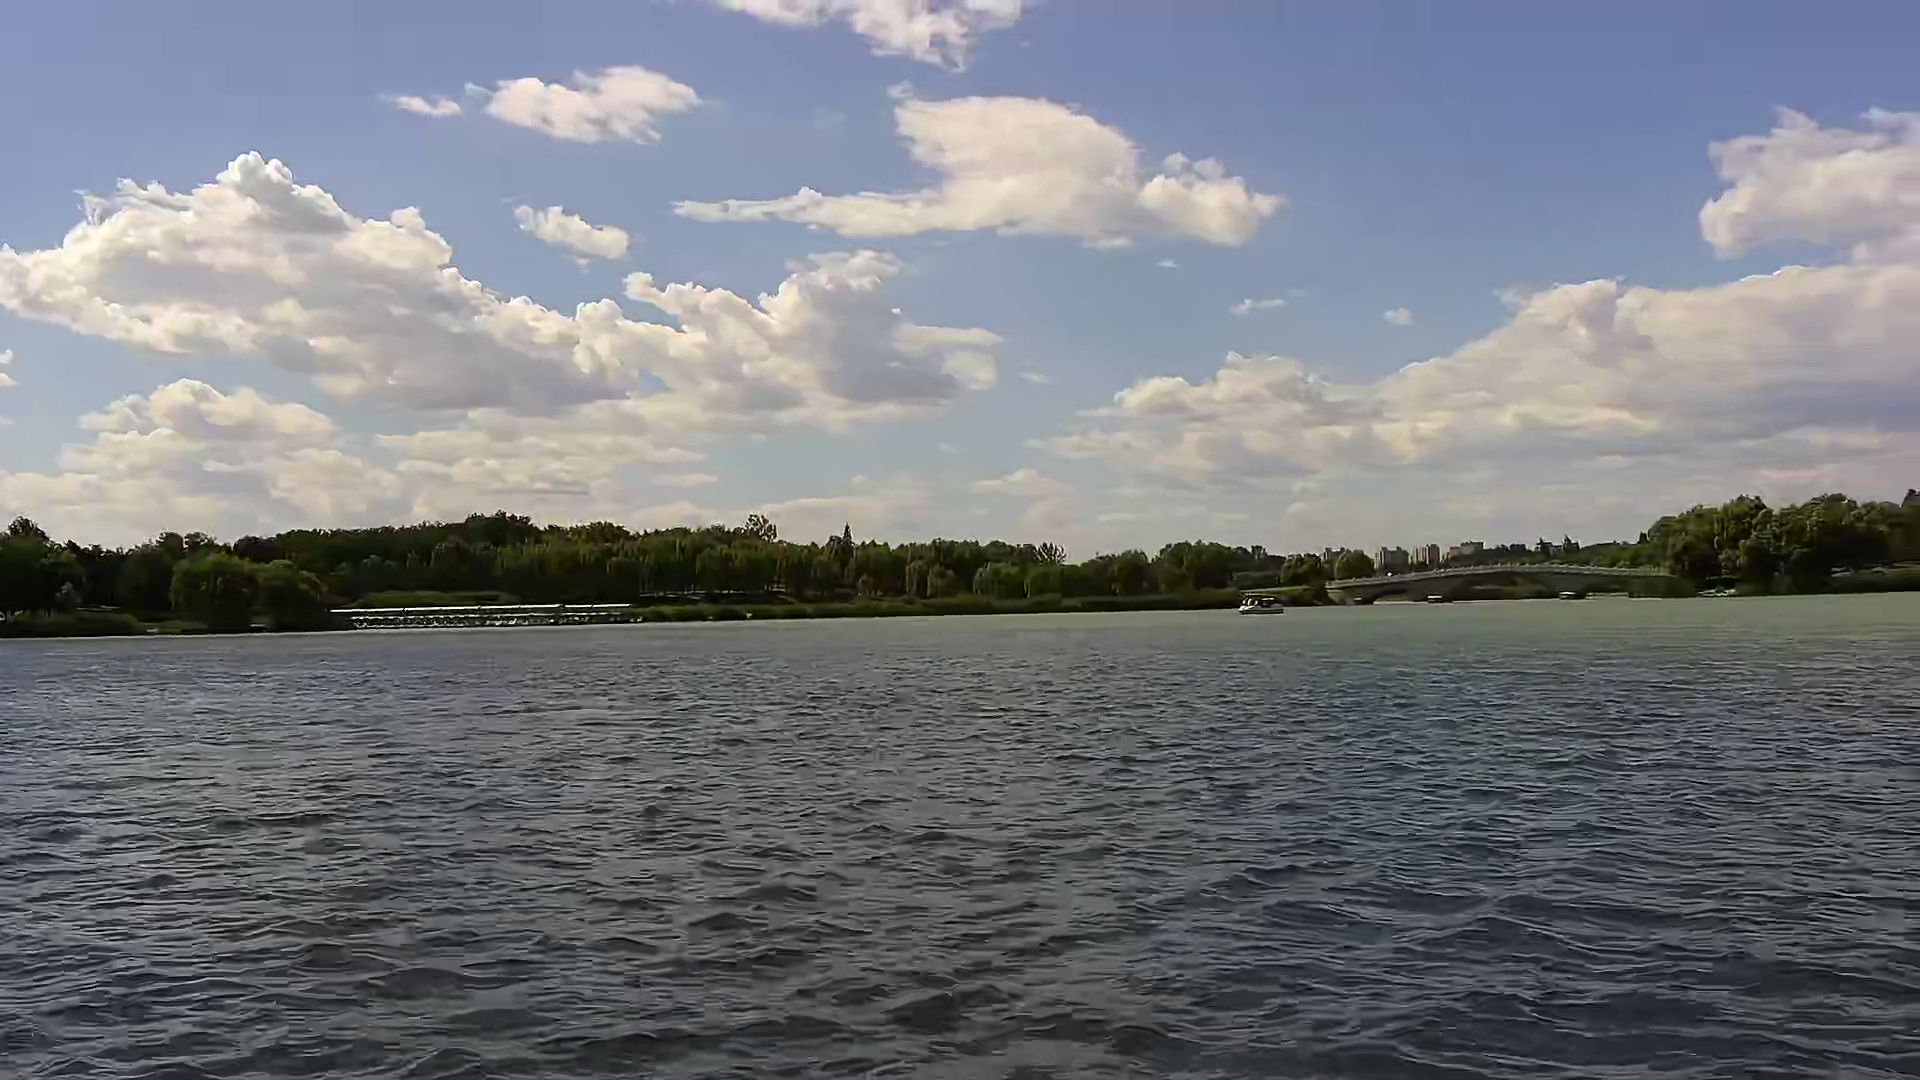boat: (1234, 593, 1288, 613)
bridge: (1331, 560, 1677, 603), (335, 607, 628, 630)
